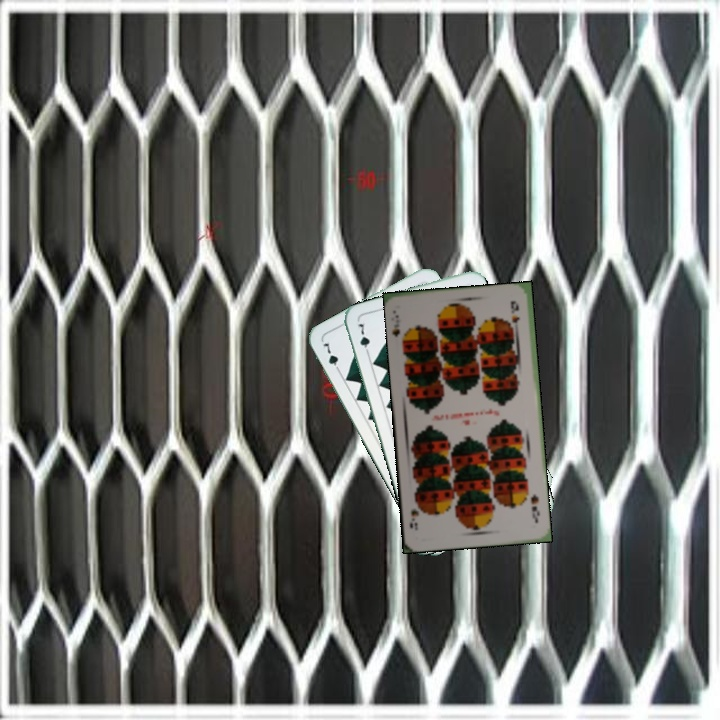G7: (319, 339, 343, 376), (353, 318, 372, 358)
S9: (527, 490, 542, 525), (389, 310, 402, 340)
